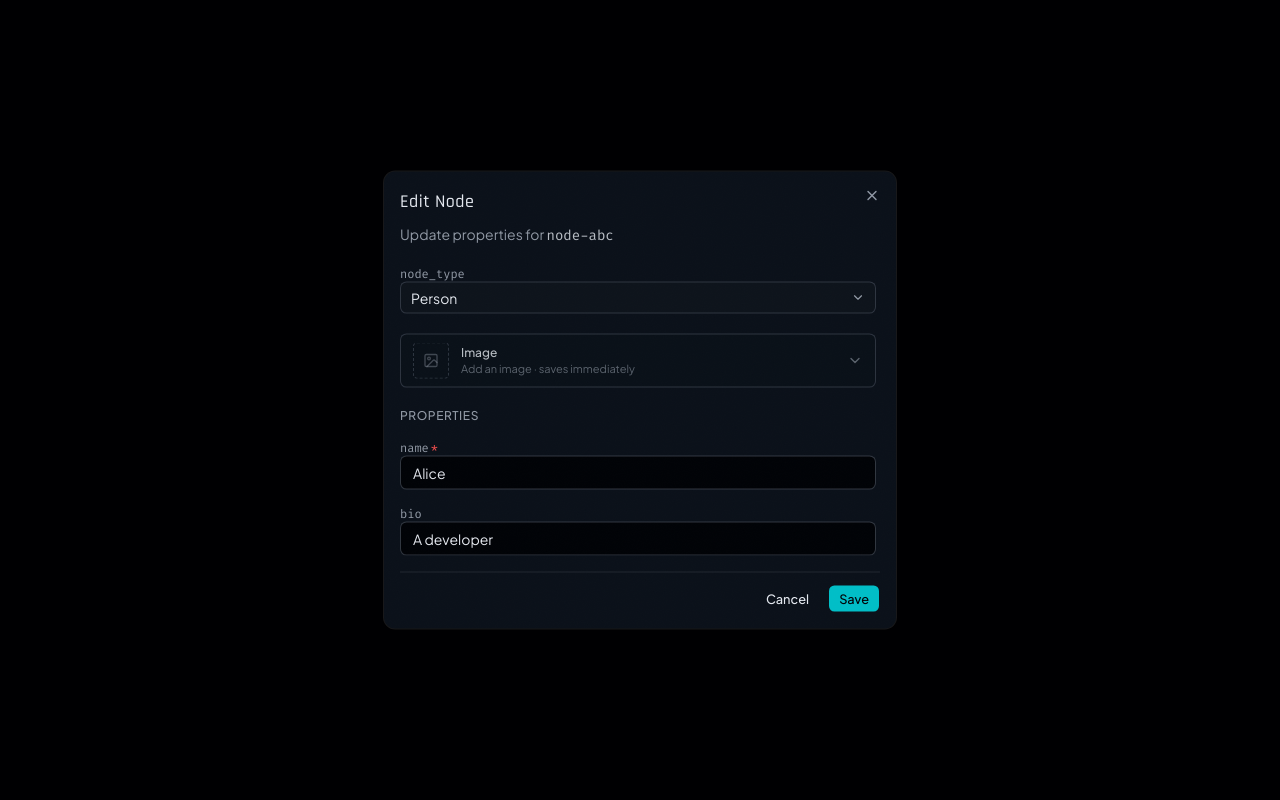
Test: EditNodeModal › Save flow › shows inline error on save failure
Step 1. Click the button "Save" → {"x": 854, "y": 598}, box 828,584 -> 880,612
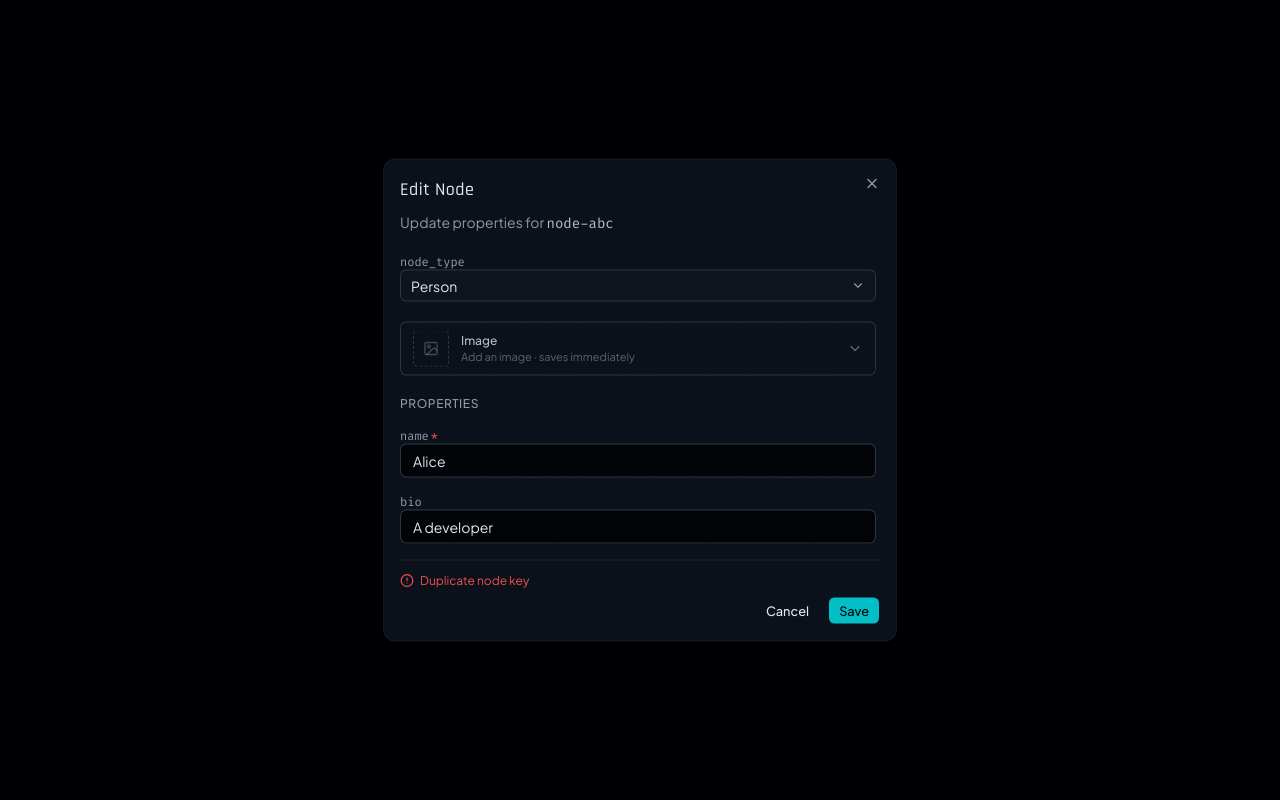
Result: the text "Duplicate node key" is shown at 400,572 -> 529,588
